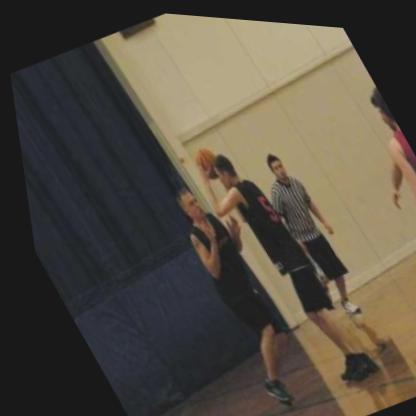basketball: (184, 143, 219, 180)
